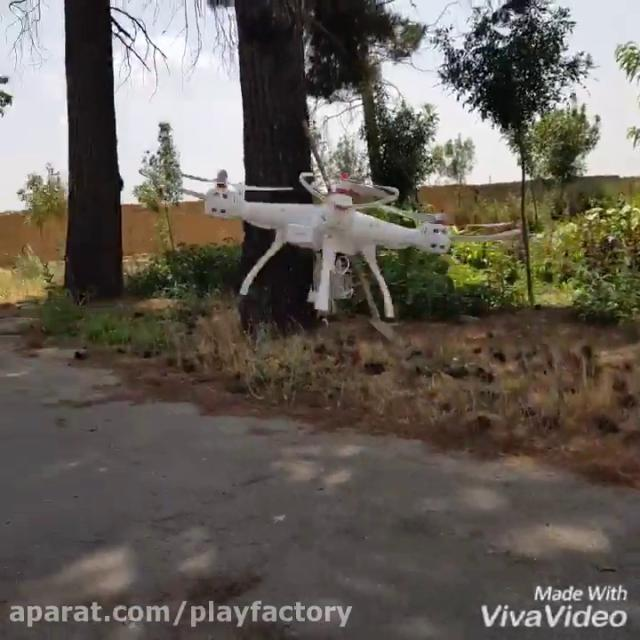drone: (132, 167, 522, 317)
